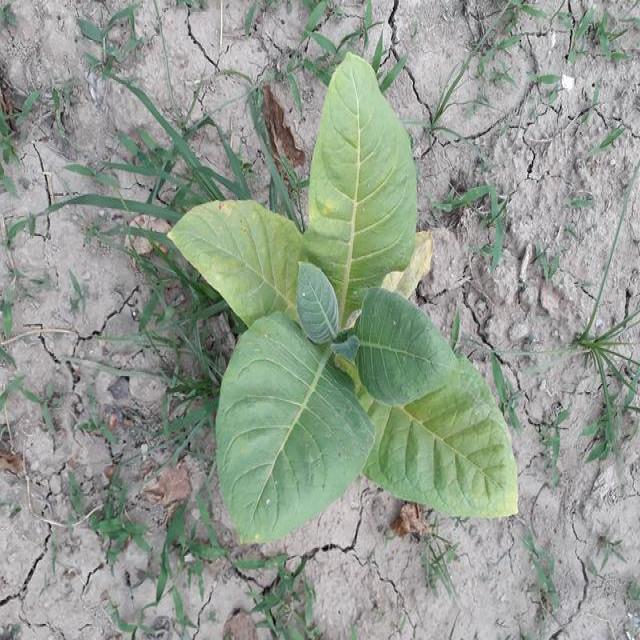crop: (174, 58, 520, 537)
